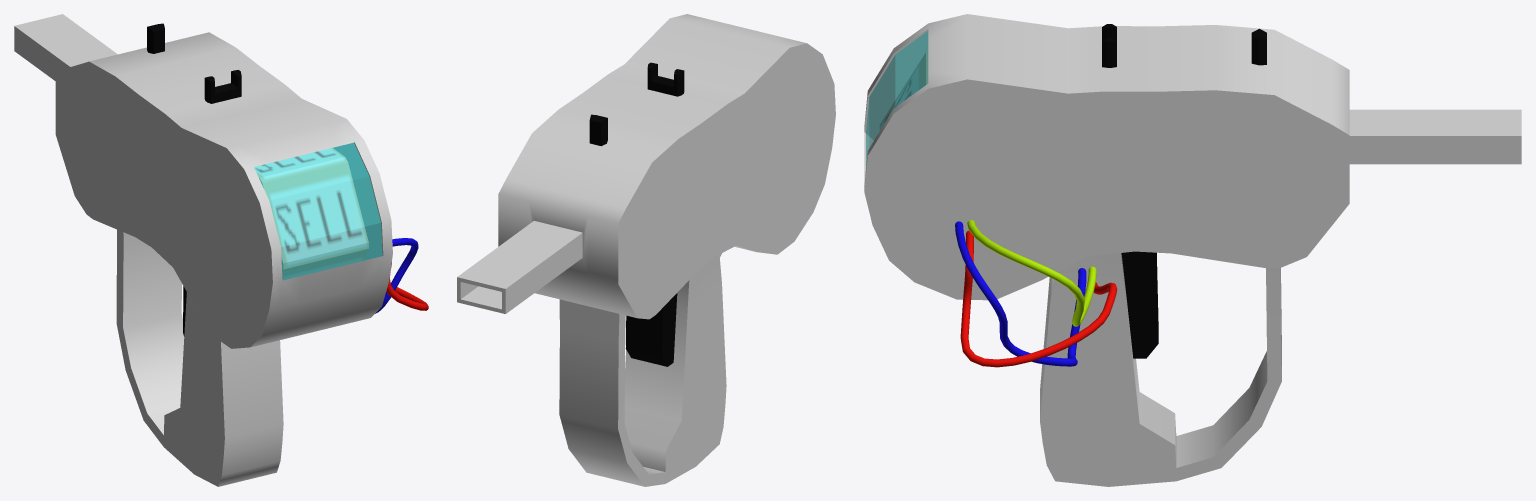
File: Sell Gun.fbx
3 renders of one model, left to right at view 1: azimuth 30°, elevation 25°; view 2: azimuth 150°, elevation 25°; view 3: azimuth 270°, elevation 25°, orthographic. The views are drawn at different scales.
Visible parts, largest first — view 1: Sell Gun, Display, Cylinder.001, Guide, Wire.002, Wire.001, Guide.001; view 2: Sell Gun, Trigger, Guide, Guide.001; view 3: Sell Gun, Display, Trigger, Wire.001, Wire.002, Wire, Cylinder.001.
Boxes of the visible parts, left/top/right/bottom form: Sell Gun: left=14, top=14, right=392, bottom=486; Display: left=254, top=142, right=382, bottom=280; Cylinder.001: left=254, top=148, right=368, bottom=280; Guide: left=204, top=70, right=241, bottom=103; Wire.002: left=375, top=238, right=418, bottom=313; Wire.001: left=386, top=262, right=428, bottom=310; Guide.001: left=147, top=23, right=164, bottom=53; Sell Gun: left=457, top=14, right=835, bottom=486; Trigger: left=625, top=293, right=677, bottom=366; Guide: left=647, top=62, right=684, bottom=96; Guide.001: left=589, top=114, right=607, bottom=146; Sell Gun: left=864, top=14, right=1521, bottom=486; Display: left=866, top=31, right=928, bottom=166; Trigger: left=1121, top=251, right=1158, bottom=358; Wire.001: left=960, top=230, right=1117, bottom=367; Wire.002: left=955, top=221, right=1086, bottom=366; Wire: left=967, top=220, right=1096, bottom=326; Cylinder.001: left=879, top=51, right=928, bottom=130.
Size of the model in its own units: 264 by 477 by 648.
